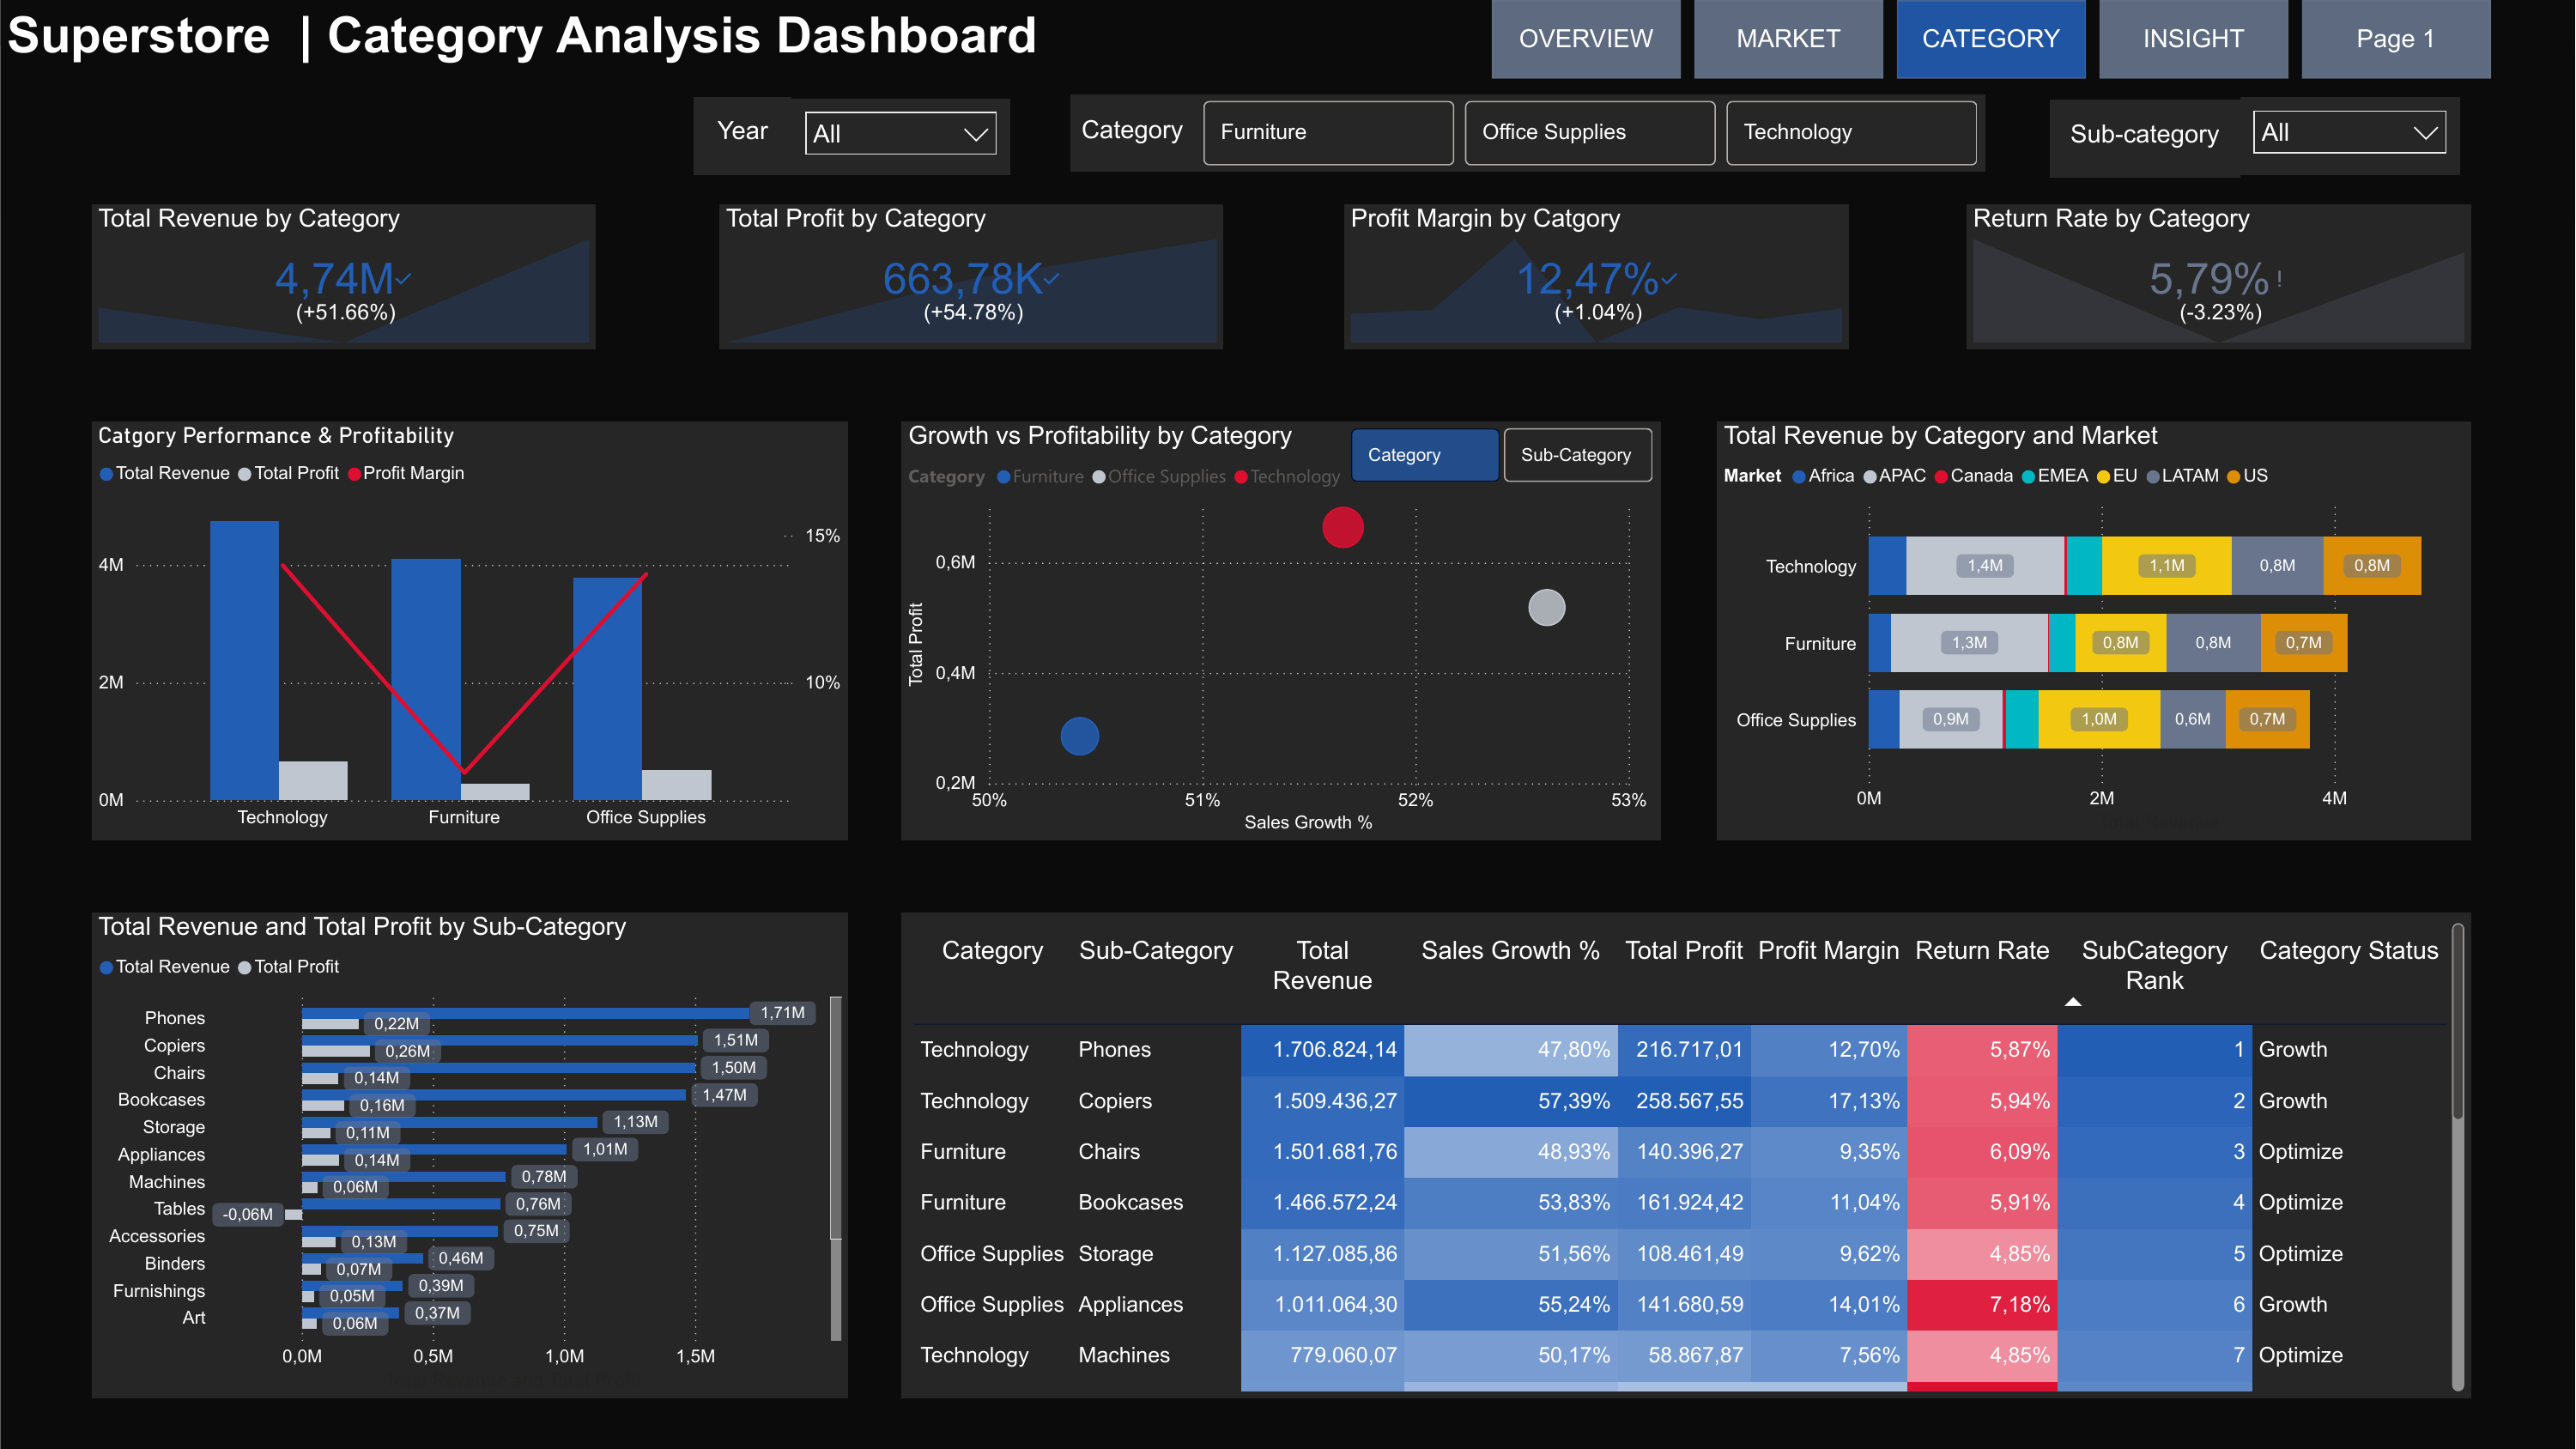

This screenshot's page, from the dashboard's own definition file:
{"tool":"powerbi","page":{"name":"CATEGORY","canvas":[1920,1080],"ordinal":2},"visuals":[{"type":"textbox","box":[516.7,71.7,73.3,58.3],"z":1000},{"type":"textbox","box":[0,0,866,58],"z":2000},{"type":"pageNavigator","box":[1112,0,748,58],"z":3000},{"type":"slicer","fields":{"Values":["Dim_date.Date.Variation.Date Hierarchy.Year"]},"box":[590,72.5,162.5,57.5],"z":4000},{"type":"textbox","box":[798,70,94,58],"z":5000},{"type":"advancedSlicerVisual","fields":{"Values":["Order.Category"]},"box":[892,70,588,58],"z":6000},{"type":"lineClusteredColumnComboChart","title":"Catgory Performance & Profitability","fields":{"Y":["_Measure.Total Revenue","_Measure.Total Profit"],"Y2":["_Measure.Profit Margin"],"Category":["Order.Category"]},"box":[68,314,564,312],"z":7000},{"type":"kpi","title":"Total Revenue by Category","fields":{"Indicator":["_Measure.Total Revenue"],"Goal":["_Measure.SalesLY"],"TrendLine":["Order.Category"]},"box":[68,152,376,108],"z":8000},{"type":"kpi","title":"Total Profit by Category","fields":{"Goal":["_Measure.ProfitLY"],"Indicator":["_Measure.Total Profit"],"TrendLine":["Order.Category"]},"box":[536,152,376,108],"z":9000},{"type":"kpi","title":"Profit Margin by Catgory","fields":{"TrendLine":["Order.Market"],"Indicator":["_Measure.Profit Margin"],"Goal":["_Measure.MarginLY"]},"box":[1002,152,376,108],"z":10000},{"type":"kpi","title":"Return Rate by Category","fields":{"Indicator":["Return.Return Rate"],"Goal":["Return.ReturnLY"],"TrendLine":["Order.Category"]},"box":[1466,152,376,108],"z":11000},{"type":"scatterChart","title":"Growth vs Profitability by Category","fields":{"Series":["Order.Category"],"X":["_Measure.Sales YoY %"],"Size":["_Measure.Total Revenue"],"Y":["_Measure.Total Profit"]},"box":[672,314,566,312],"z":12000},{"type":"clusteredBarChart","fields":{"Category":["Order.Sub-Category"],"Y":["_Measure.Total Revenue","_Measure.Total Profit"]},"box":[68,680,564,362],"z":13000},{"type":"tableEx","fields":{"Values":["Order.Category","Order.Sub-Category","_Measure.Total Revenue","_Measure.Sales Growth %","_Measure.Total Profit","_Measure.Profit Margin","Return.Return Rate","_Measure.Category Rank","_Measure.Category Status"]},"box":[672,680,1170,362],"z":14000},{"type":"advancedSlicerVisual","fields":{"Values":["Parameter 2.Parameter"]},"box":[1002,314,236,50],"z":15000},{"type":"barChart","fields":{"Category":["Order.Category"],"Y":["_Measure.Total Revenue"],"Series":["Order.Market"]},"box":[1280,314,562,312],"z":16000},{"type":"textbox","box":[1528,74,142,58],"z":17000},{"type":"slicer","fields":{"Values":["Order.Sub-Category"]},"box":[1670,72,164,58],"z":18000}]}

Visuals, with their boxes in screenshot pixels (x1, y1, x2, y2), scaled from the page's 1920x1080 canvas onto the 2576x1449 screenshot:
textbox: detection(694, 96, 791, 174)
textbox: detection(0, 0, 1162, 78)
pageNavigator: detection(1492, 0, 2495, 78)
slicer - Dim_date.Date.Variation.Date Hierarchy.Year: detection(791, 97, 1009, 174)
textbox: detection(1070, 94, 1197, 172)
advancedSlicerVisual - Order.Category: detection(1197, 94, 1985, 172)
"Catgory Performance & Profitability" lineClusteredColumnComboChart: detection(91, 421, 848, 840)
"Total Revenue by Category" kpi: detection(91, 204, 596, 349)
"Total Profit by Category" kpi: detection(719, 204, 1223, 349)
"Profit Margin by Catgory" kpi: detection(1344, 204, 1849, 349)
"Return Rate by Category" kpi: detection(1967, 204, 2471, 349)
"Growth vs Profitability by Category" scatterChart: detection(901, 421, 1661, 840)
clusteredBarChart - Order.Sub-Category x _Measure.Total Revenue: detection(91, 912, 848, 1398)
tableEx - Order.Category x Order.Sub-Category: detection(901, 912, 2471, 1398)
advancedSlicerVisual - Parameter 2.Parameter: detection(1344, 421, 1661, 488)
barChart - Order.Category x _Measure.Total Revenue: detection(1718, 421, 2471, 840)
textbox: detection(2050, 100, 2240, 177)
slicer - Order.Sub-Category: detection(2240, 97, 2461, 174)
